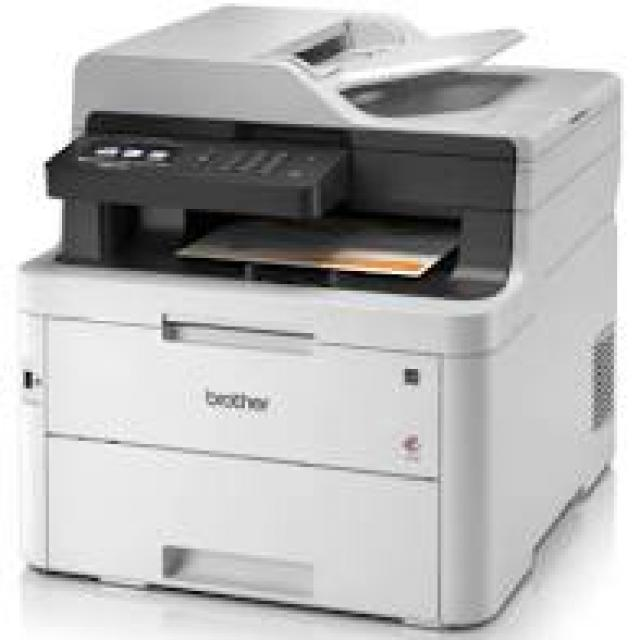printer: (10, 4, 628, 621)
